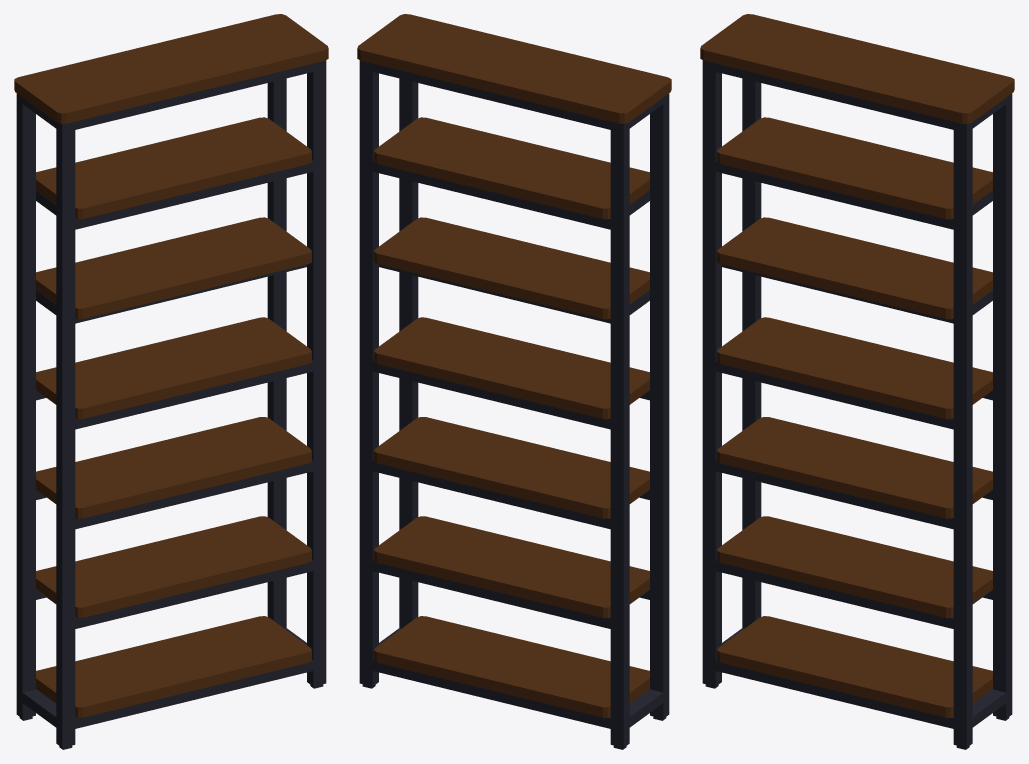
File: shelfcabinet.glb
3 renders of one model, left to right at view 1: azimuth 30°, elevation 25°; view 2: azimuth 150°, elevation 25°; view 3: azimuth 330°, elevation 25°, orthographic.
Visible parts, largest first — view 1: Big Shelf; view 2: Big Shelf; view 3: Big Shelf.
Boxes of the visible parts, left/top/right/bottom form: Big Shelf: left=14, top=14, right=328, bottom=749; Big Shelf: left=357, top=14, right=671, bottom=749; Big Shelf: left=700, top=14, right=1014, bottom=749.
Size of the model in its own units: 0.8543 by 1.92 by 0.2677.
